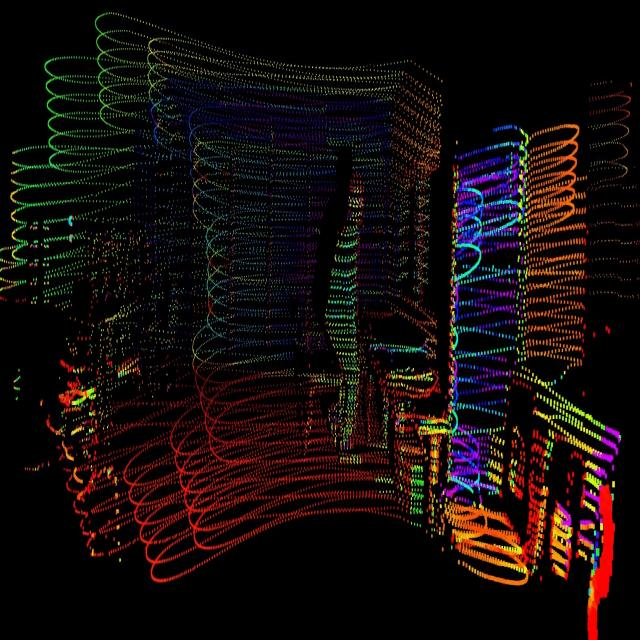human: (322, 168, 368, 457)
